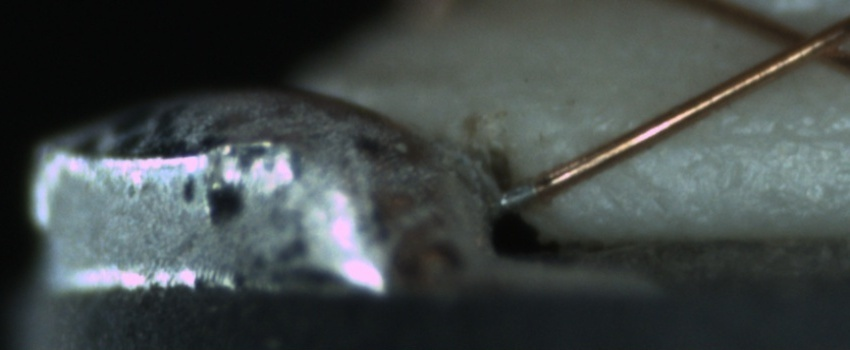CL: (758, 10, 847, 75)
DL: (671, 104, 850, 169)
TS: (498, 180, 539, 211)
